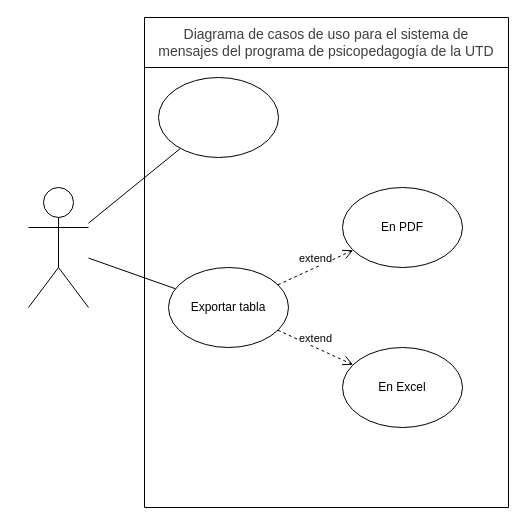
This 526x525 diagram has some shape labels left out. Here are the shapes that lost their labels. From the top down, the box of each, then its label:
(158, 76, 278, 158): Importar tabla
(28, 186, 88, 308): Psicopedagogo
